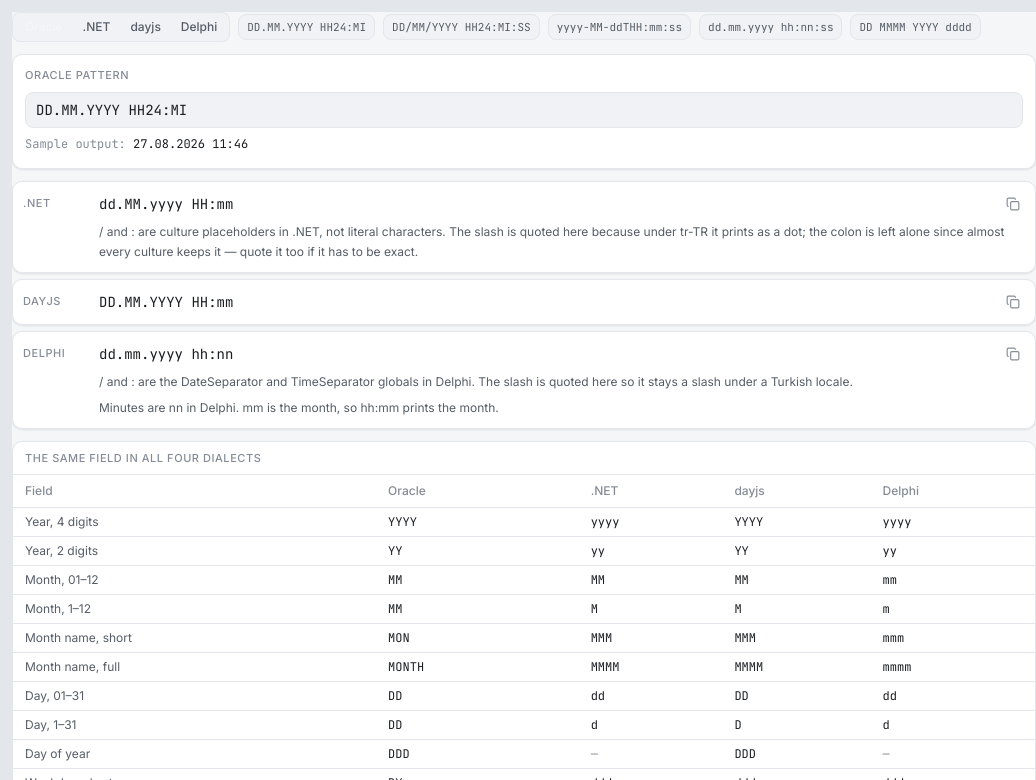
Scenario: DateFormatTool › kaynak lehçe değişince aynı harfler başka anlama gelir
Type "mm" into the field. click: (524, 110)
box: [25,92,1023,128]
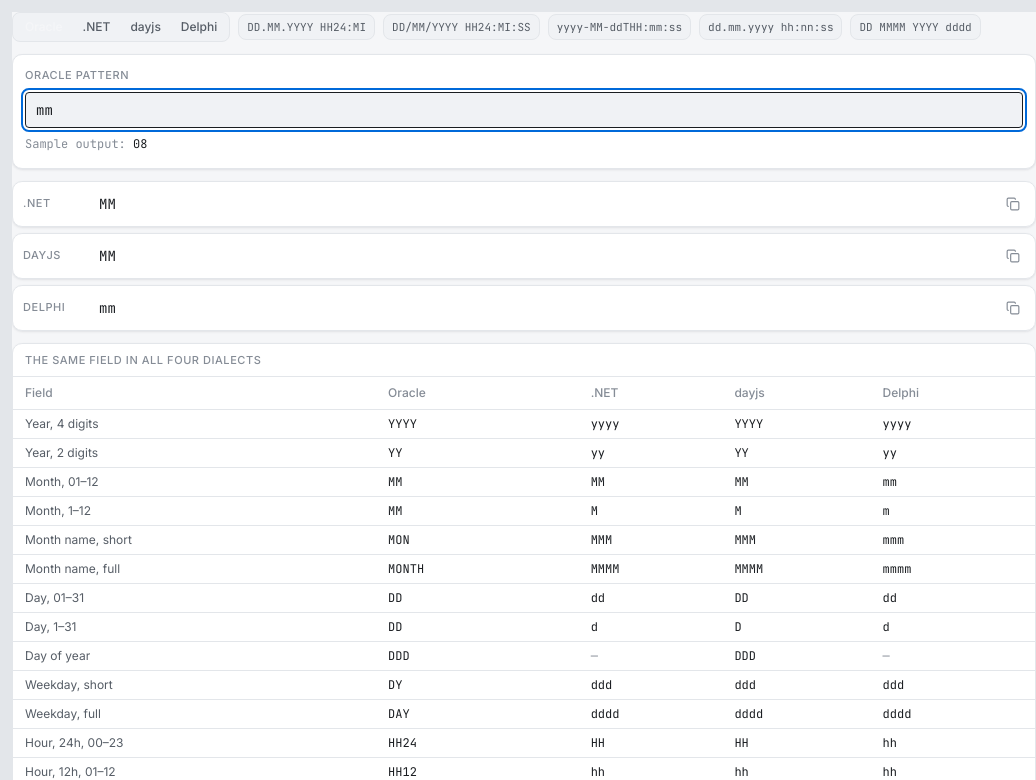
Check: the text "mm" is shown, box [99,298,116,316]
Click the button ".NET". click: (96, 27)
box: [73,15,120,39]
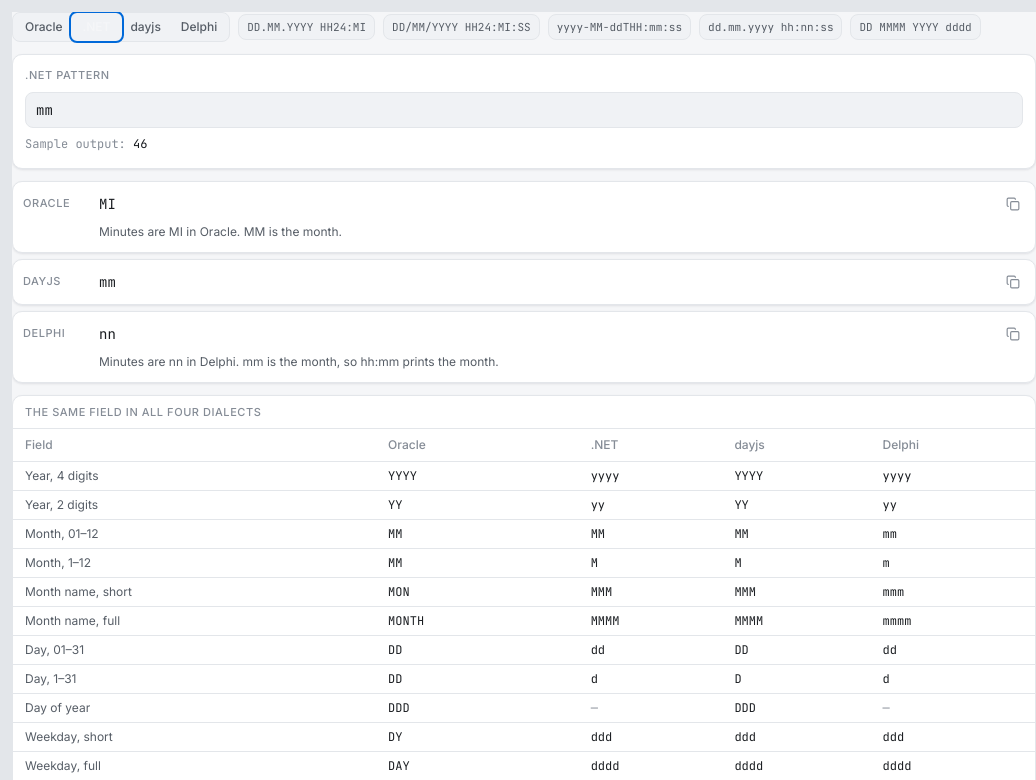
Check: the text "nn" is shown, box [99,324,116,342]
